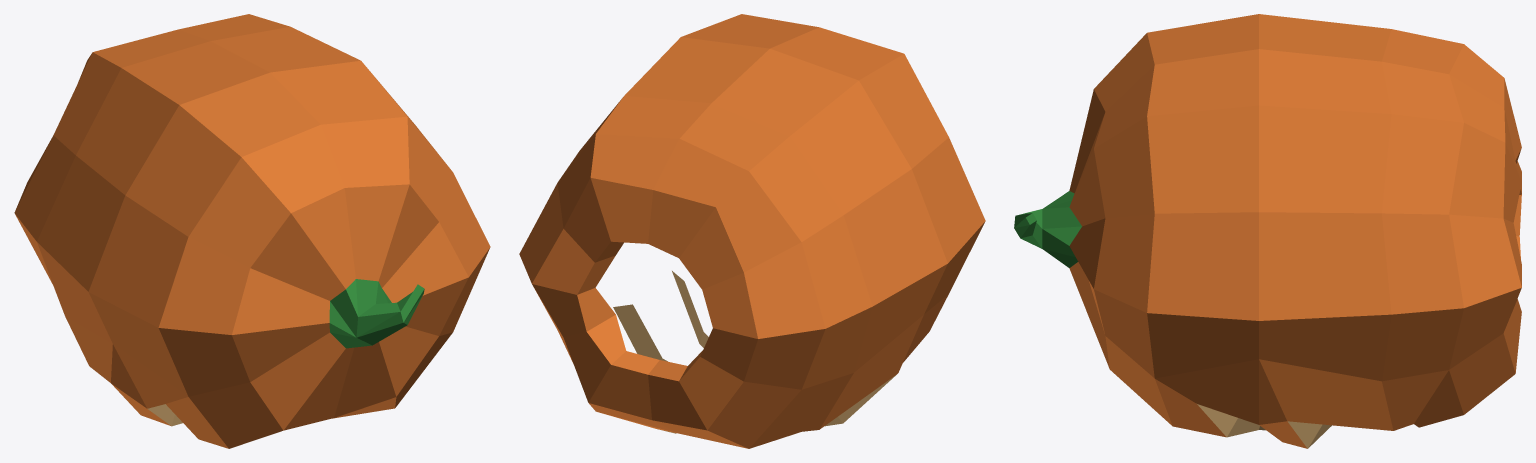
The model's file is pumpkin.glb.
3 views of the same model, side by side, from view 1: azimuth 30°, elevation 25°; view 2: azimuth 150°, elevation 25°; view 3: azimuth 270°, elevation 25° (orthographic). The views are drawn at different scales.
Parts seen in each view (by area): view 1: pumpkin; view 2: pumpkin; view 3: pumpkin.
Part boxes in pixels (x1,y1,x2,y2): pumpkin: [14, 14, 490, 448]; pumpkin: [519, 14, 985, 448]; pumpkin: [1014, 14, 1521, 448].
Size of the model in its own units: 1 by 0.9521 by 1.17.
1 material, 1 textured.
